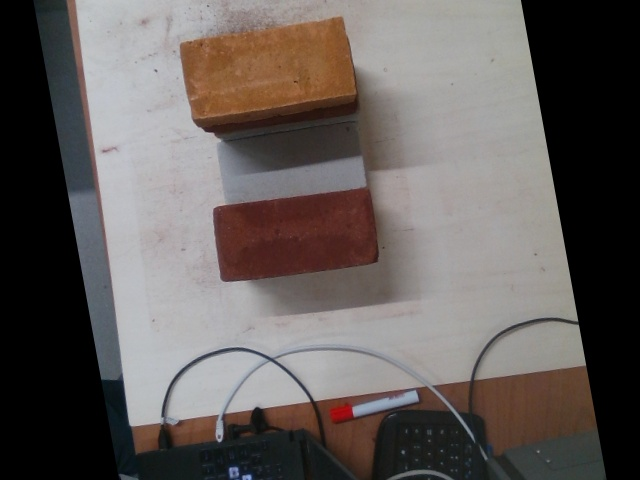brick: (181, 15, 356, 119), (215, 189, 376, 281), (216, 121, 366, 204)
